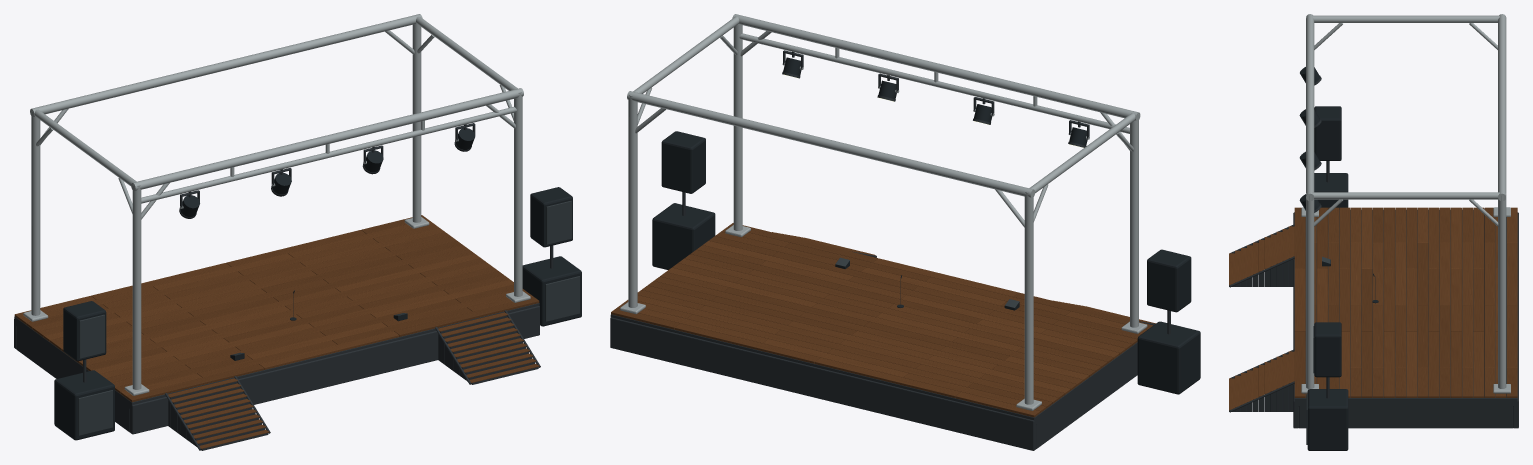
File: garden-stage.glb
3 views of the same model, side by side, from view 1: azimuth 30°, elevation 25°; view 2: azimuth 150°, elevation 25°; view 3: azimuth 270°, elevation 25° (orthographic). The views are drawn at different scales.
Parts seen in each view (by area): view 1: Stage_Fascia_Front, Stage_Header_-1.72, Stage_Header_1.72, Stage_LightingRail, Stage_Sub_Left, Stage_Fascia_Side_-1, Stage_Post_L_Front, Stage_Post_L_Rear, Stage_Sub_Right, Stage_Post_R_Rear, Stage_Post_R_Front, Stage_DeckSubstrate (+54 smaller); view 2: Stage_Fascia_Rear, Stage_Header_1.72, Stage_Header_-1.72, Stage_Sub_Left, Stage_Fascia_Side_-1, Stage_Sub_Right, Stage_LightingRail, Stage_TopSpeaker_Left, Stage_TopSpeaker_Right, Stage_Post_L_Rear, Stage_Post_R_Rear, Stage_DeckSubstrate (+55 smaller); view 3: Stage_Fascia_Side_1, Stage_DeckSubstrate, Stage_Sub_Right, Stage_Post_R_Rear, Stage_Post_R_Front, Stage_Header_1.72, Stage_Header_-1.72, Stage_TopSpeaker_Right, Stage_SideBeam_3.74, Stage_SideBeam_-3.74, Stage_TopSpeaker_Left, Stage_Sub_Left (+62 smaller).
Part boxes in pixels (box(x1,y1,x2,y2)): Stage_Fascia_Front: box(130, 306, 539, 434); Stage_Header_-1.72: box(131, 88, 523, 191); Stage_Header_1.72: box(30, 14, 422, 117); Stage_LightingRail: box(141, 107, 516, 203); Stage_Sub_Left: box(54, 370, 114, 440); Stage_Fascia_Side_-1: box(17, 322, 129, 432); Stage_Post_L_Front: box(132, 185, 141, 389); Stage_Post_L_Rear: box(31, 111, 40, 315); Stage_Sub_Right: box(522, 256, 581, 326); Stage_Post_R_Rear: box(412, 23, 421, 222); Stage_Post_R_Front: box(514, 92, 522, 296); Stage_DeckSubstrate: box(14, 303, 539, 408); Stage_Fascia_Rear: box(610, 317, 1036, 450); Stage_Header_1.72: box(627, 91, 1035, 198); Stage_Header_-1.72: box(732, 14, 1140, 121); Stage_Sub_Left: box(1137, 321, 1200, 394); Stage_Fascia_Side_-1: box(1036, 346, 1137, 448); Stage_Sub_Right: box(652, 203, 715, 269); Stage_LightingRail: box(739, 33, 1129, 133); Stage_TopSpeaker_Left: box(1147, 249, 1191, 312); Stage_TopSpeaker_Right: box(661, 131, 705, 193); Stage_Post_L_Rear: box(1024, 192, 1033, 404); Stage_Post_R_Rear: box(628, 95, 637, 307); Stage_DeckSubstrate: box(610, 314, 1137, 425); Stage_Fascia_Side_1: box(1299, 401, 1513, 428); Stage_DeckSubstrate: box(1294, 210, 1517, 406); Stage_Sub_Right: box(1307, 389, 1348, 450); Stage_Post_R_Rear: box(1498, 193, 1506, 388); Stage_Post_R_Front: box(1306, 193, 1314, 388); Stage_Header_1.72: box(1498, 14, 1506, 200); Stage_Header_-1.72: box(1306, 14, 1314, 200); Stage_TopSpeaker_Right: box(1314, 322, 1341, 377); Stage_SideBeam_3.74: box(1312, 192, 1499, 199); Stage_SideBeam_-3.74: box(1312, 15, 1499, 22); Stage_TopSpeaker_Left: box(1314, 106, 1341, 160); Stage_Sub_Left: box(1314, 173, 1348, 209).
Bounding box in the file's own units: 29.88 × 13.67 × 15.58.
Materials: 10 (5 with a texture image).
